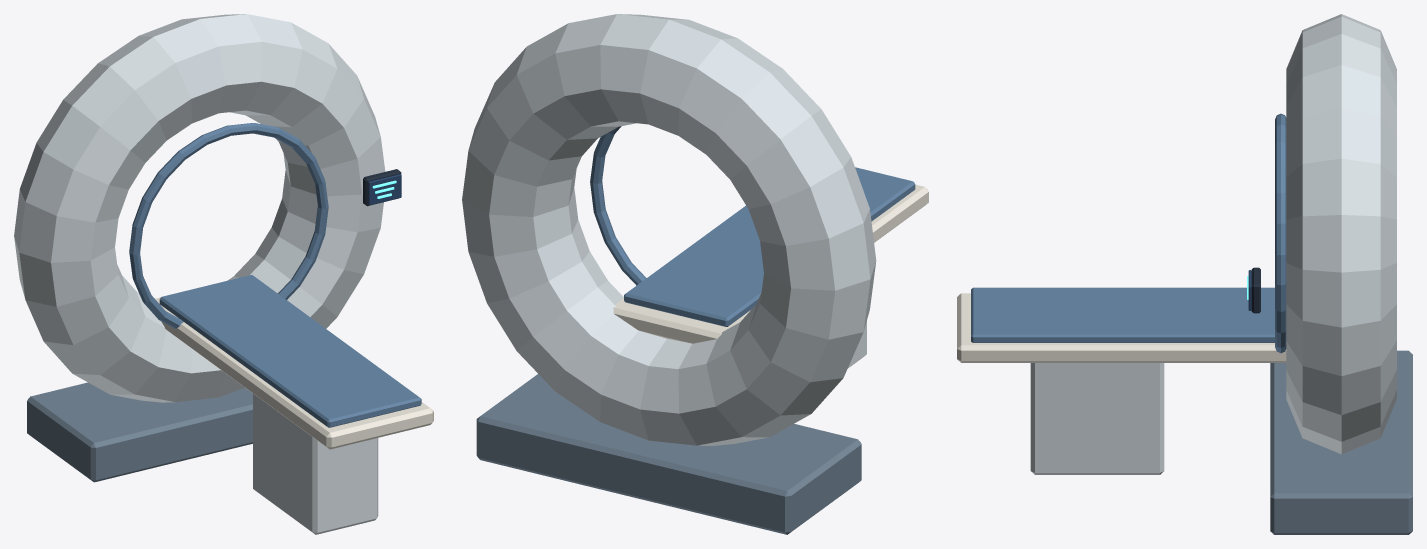
The model's file is clinic_06.glb.
3 views of the same model, side by side, from view 1: azimuth 30°, elevation 25°; view 2: azimuth 150°, elevation 25°; view 3: azimuth 270°, elevation 25° (orthographic). The views are drawn at different scales.
Visible parts, largest first — view 1: CTGantry, PatientPad, GantryFoot, ScanPedestal, CTInnerRing, ScanBed, Screen; view 2: CTGantry, GantryFoot, PatientPad, ScanBed, CTInnerRing; view 3: CTGantry, PatientPad, GantryFoot, ScanPedestal, ScanBed, CTInnerRing.
Boxes of the visible parts, box(x1,y1,x2,y2) form: CTGantry: box(14, 14, 385, 402); PatientPad: box(159, 275, 421, 427); GantryFoot: box(27, 382, 252, 482); ScanPedestal: box(253, 393, 378, 534); CTInnerRing: box(129, 123, 328, 328); ScanBed: box(155, 297, 433, 449); Screen: box(368, 174, 401, 205); CTGantry: box(462, 14, 876, 445); GantryFoot: box(476, 374, 861, 534); PatientPad: box(624, 167, 915, 326); ScanBed: box(613, 184, 928, 343); CTInnerRing: box(590, 126, 646, 285); CTGantry: box(1286, 14, 1396, 454); PatientPad: box(971, 287, 1274, 342); GantryFoot: box(1270, 350, 1412, 534); ScanPedestal: box(1030, 363, 1164, 474); ScanBed: box(957, 293, 1286, 362); CTInnerRing: box(1275, 113, 1286, 353).
Size of the model in its own units: 1.92 by 2.06 by 1.98.
